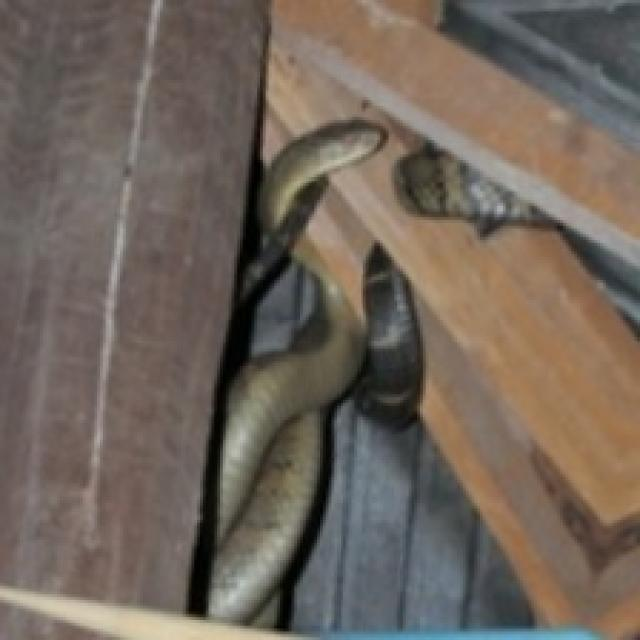king cobra: (191, 120, 386, 620), (246, 260, 314, 357)
